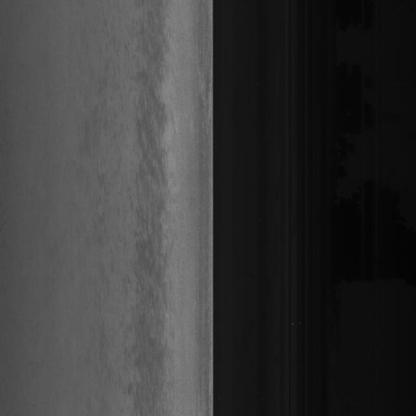silk_spot: (133, 90, 167, 324)
